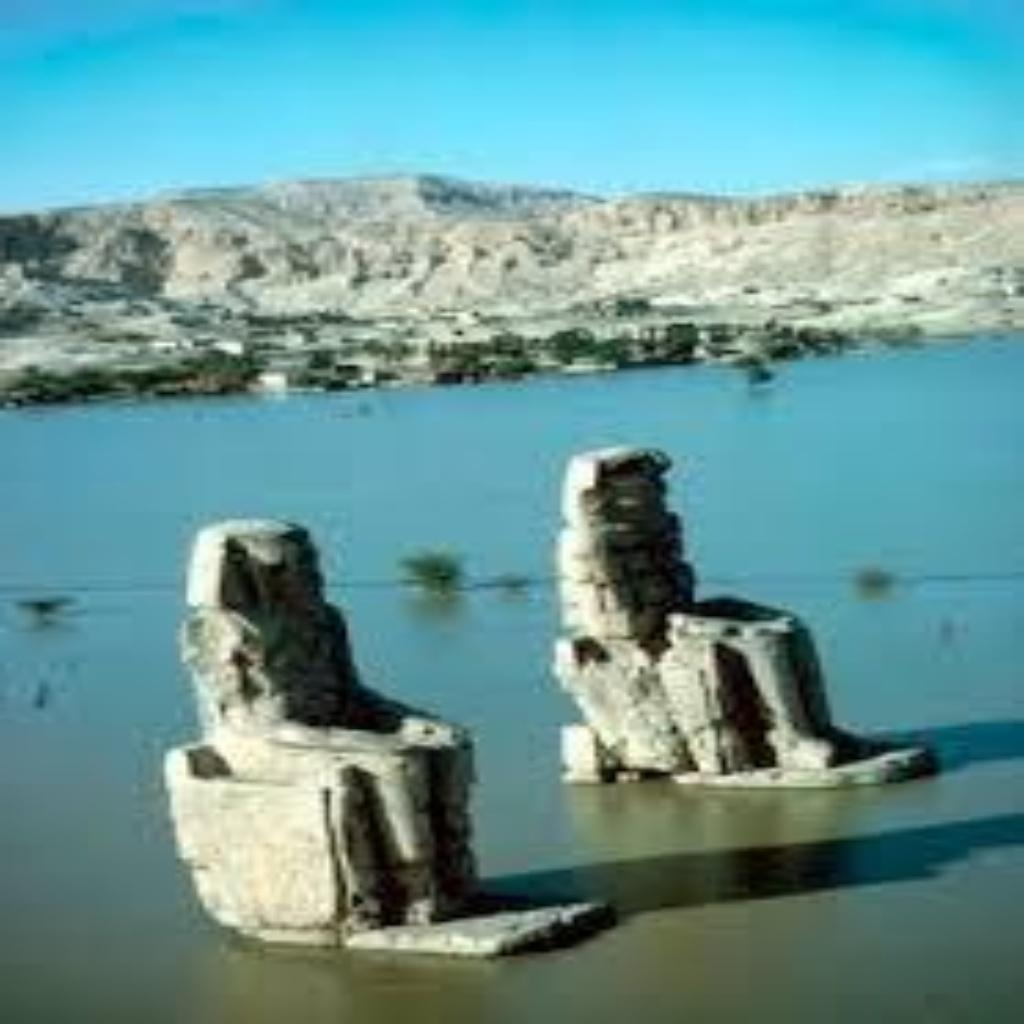Colossoi of Memnon: (154, 508, 616, 956)
